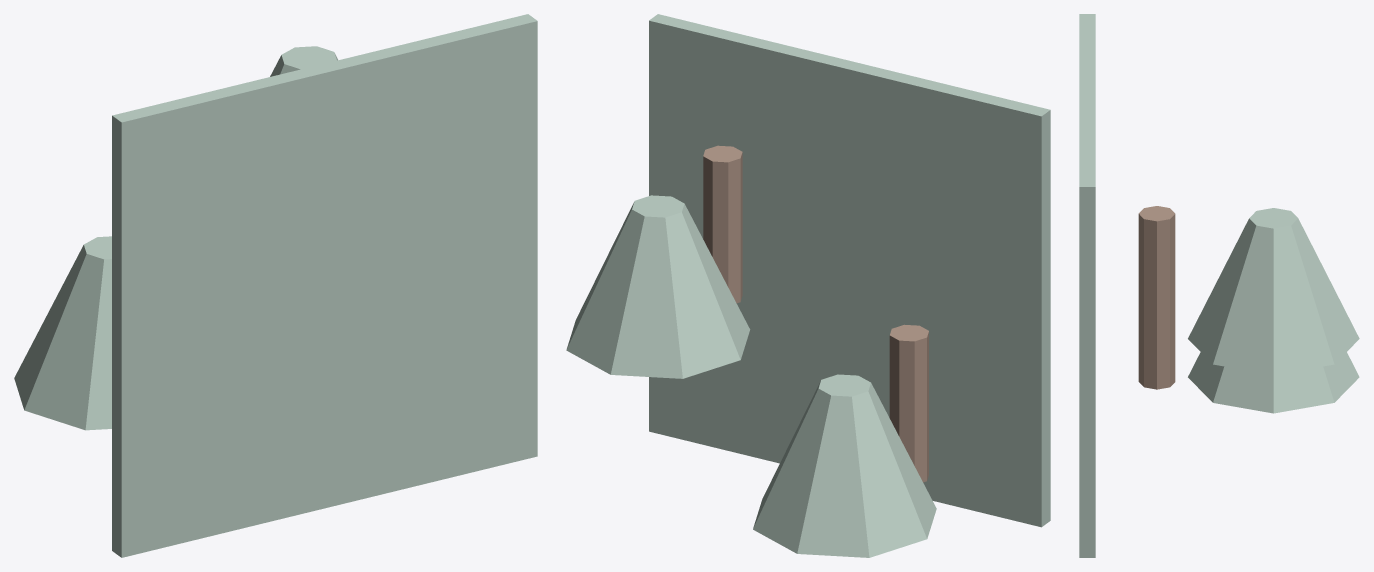
The model's file is orchard.glb.
The picture shows the model from 3 angles, left to right: view 1: azimuth 30°, elevation 25°; view 2: azimuth 150°, elevation 25°; view 3: azimuth 270°, elevation 25°; orthographic projection. The views are drawn at different scales.
Parts seen in each view (by area): view 1: orchard; view 2: orchard; view 3: orchard.
Part boxes in pixels (<box>): orchard: <box>14,14,537,557</box>; orchard: <box>566,14,1050,557</box>; orchard: <box>1079,14,1359,557</box>.
Size of the model in its own units: 2 by 2 by 1.37.
